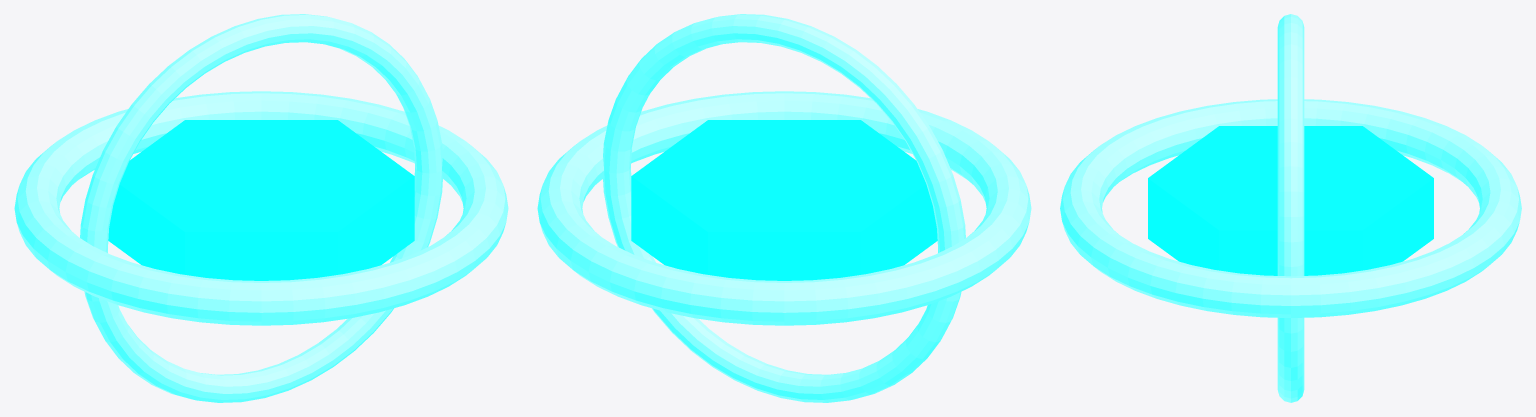
Rendered from Item_Escudo.glb.
The picture shows the model from 3 angles, left to right: view 1: azimuth 30°, elevation 25°; view 2: azimuth 150°, elevation 25°; view 3: azimuth 270°, elevation 25°; orthographic projection. The views are drawn at different scales.
Visible parts, largest first — view 1: Cylinder, Torus, Torus.001; view 2: Cylinder, Torus, Torus.001; view 3: Torus, Cylinder, Torus.001.
Part boxes in pixels (bbox=[...]): Cylinder: bbox=[108, 120, 414, 280]; Torus: bbox=[14, 91, 508, 325]; Torus.001: bbox=[80, 14, 442, 402]; Cylinder: bbox=[631, 120, 937, 280]; Torus: bbox=[537, 91, 1031, 325]; Torus.001: bbox=[603, 14, 965, 402]; Torus: bbox=[1060, 99, 1521, 317]; Cylinder: bbox=[1148, 126, 1433, 275]; Torus.001: bbox=[1277, 14, 1304, 402].
Size of the model in its own units: 2.42 by 2.04 by 2.42.
